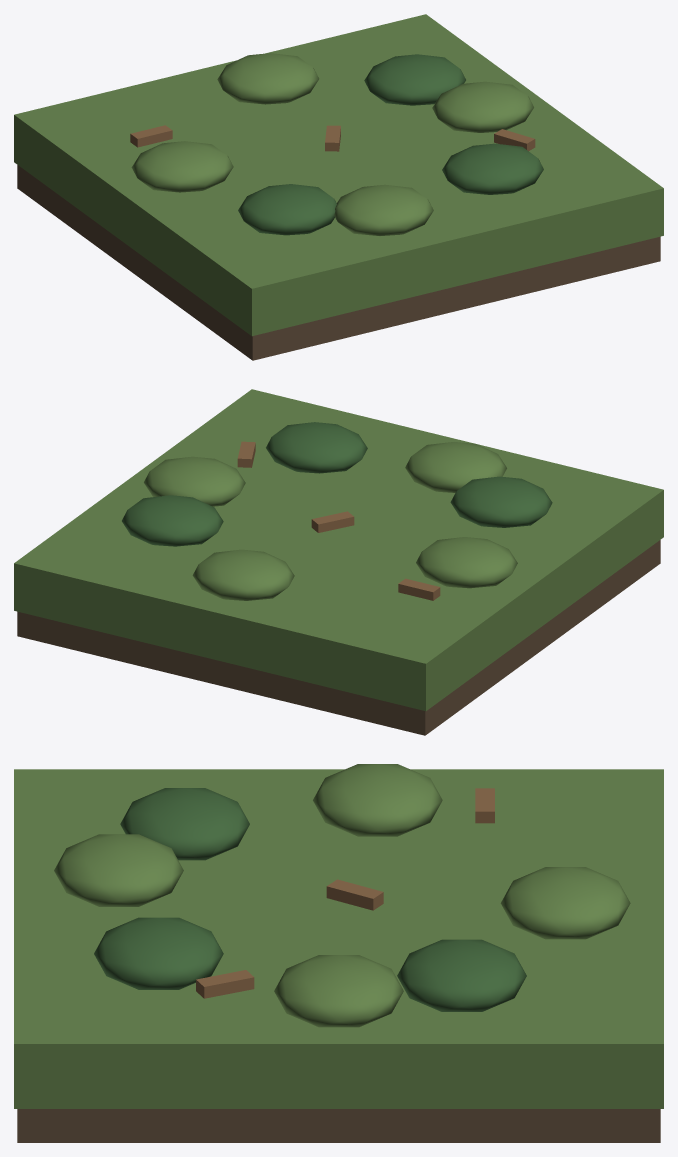
File: terrain-forest.glb
3 renders of one model, top to bottom at view 1: azimuth 30°, elevation 25°; view 2: azimuth 150°, elevation 25°; view 3: azimuth 270°, elevation 25°, orthographic. The views are drawn at different scales.
Parts seen in each view (by area): view 1: terrain-forest-visual; view 2: terrain-forest-visual; view 3: terrain-forest-visual.
Part boxes in pixels (left/top/right/bottom): terrain-forest-visual: left=14, top=14, right=663, bottom=360; terrain-forest-visual: left=14, top=389, right=663, bottom=735; terrain-forest-visual: left=14, top=764, right=663, bottom=1142.
Bounding box in the file's own units: 2 × 0.46 × 2.
